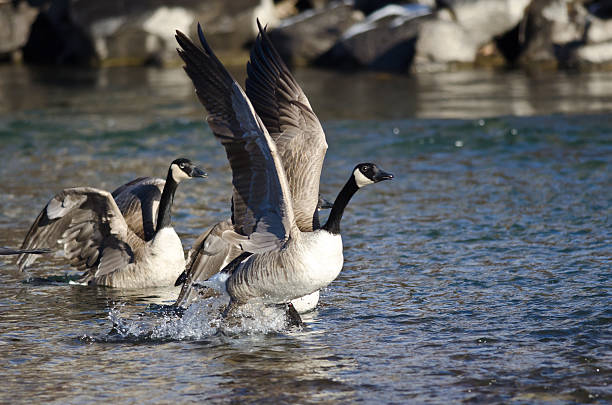goose: (169, 18, 396, 325), (20, 155, 209, 290)
